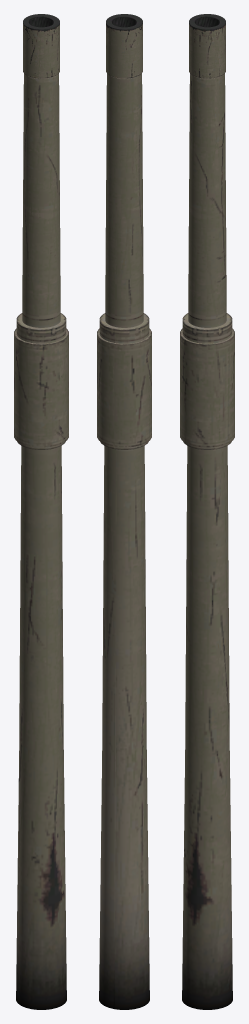
The model's file is Gun_01.glb.
The picture shows the model from 3 angles, left to right: view 1: azimuth 30°, elevation 25°; view 2: azimuth 150°, elevation 25°; view 3: azimuth 330°, elevation 25°; orthographic projection.
Visible parts, largest first — view 1: set_0_group_0; view 2: set_0_group_0; view 3: set_0_group_0.
Boxes of the visible parts, x1,y1,x2,y2 form: set_0_group_0: [14, 14, 68, 1009]; set_0_group_0: [97, 14, 151, 1009]; set_0_group_0: [180, 14, 234, 1009].
Bounding box in the file's own units: 0.2642 × 5.19 × 0.2642.
1 material, 1 textured.
